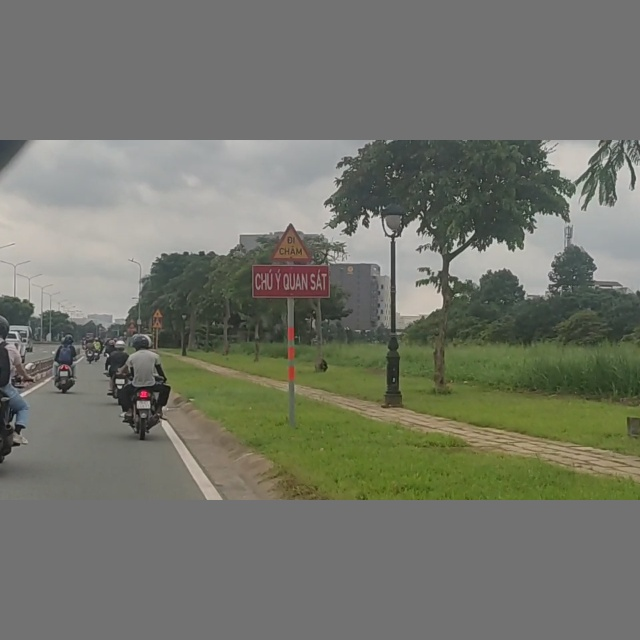W.207: (153, 307, 163, 317)
W.224: (151, 319, 163, 327)
W.245a: (271, 222, 313, 261)
